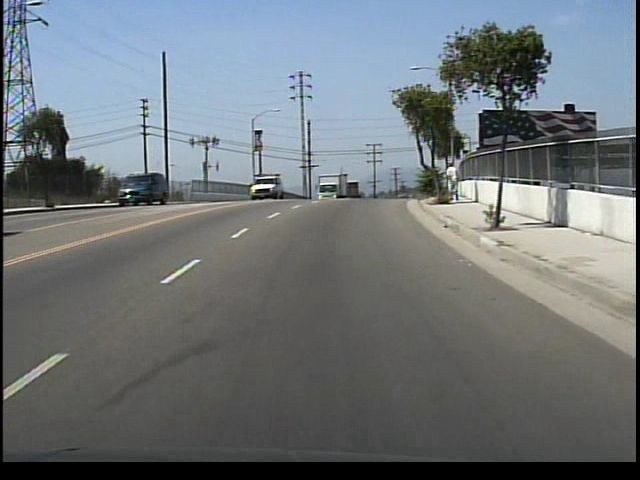person: (443, 159, 463, 205)
